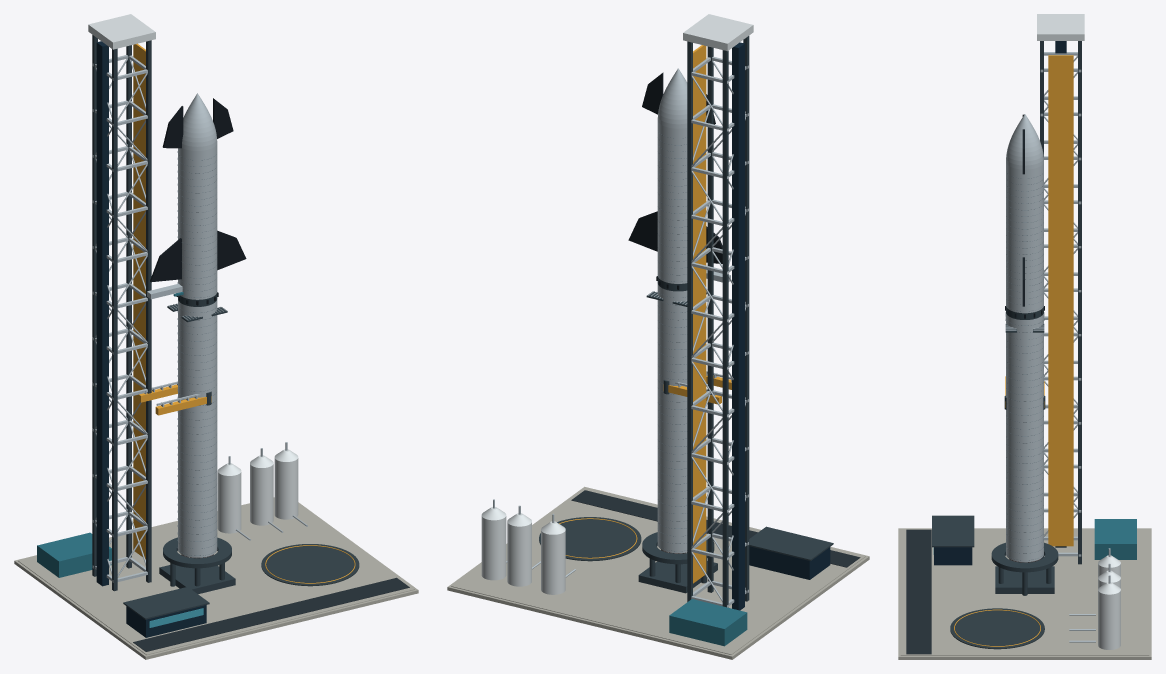
The model's file is starship-cad.glb.
3 views of the same model, side by side, from view 1: azimuth 30°, elevation 25°; view 2: azimuth 150°, elevation 25°; view 3: azimuth 270°, elevation 25° (orthographic). The views are drawn at different scales.
Parts seen in each view (by area): view 1: STATIC_Apron, BOOSTER_Hull, STATIC_Elevator, SHIP_Hull, STATIC_CatchRail, STATIC_ServiceRoad, STATIC_LandingPad, STATIC_TowerColumn_-24500_4000, STATIC_TowerColumn_-15500_4000, STATIC_TowerColumn_-24500_13000, STATIC_Foundation, STATIC_TowerColumn_-15500_13000 (+12 smaller); view 2: STATIC_Apron, BOOSTER_Hull, STATIC_Elevator, STATIC_CatchRail, SHIP_Hull, STATIC_TowerColumn_-24500_13000, STATIC_TowerColumn_-15500_13000, STATIC_TowerColumn_-15500_4000, STATIC_LandingPad, STATIC_Foundation, STATIC_TowerColumn_-24500_4000, STATIC_WaterReservoir (+10 smaller); view 3: STATIC_Apron, STATIC_CatchRail, BOOSTER_Hull, SHIP_Hull, STATIC_ServiceRoad, STATIC_LandingPad, STATIC_TowerColumn_-15500_13000, STATIC_Foundation, STATIC_WaterReservoir, STATIC_ControlRoof, STATIC_TowerCrown, STATIC_Cryotank_30000 (+4 smaller).
Part boxes in pixels (<box>): STATIC_Apron: <box>18,498,414,655</box>; BOOSTER_Hull: <box>178,299,217,557</box>; STATIC_Elevator: <box>96,41,108,586</box>; SHIP_Hull: <box>178,143,217,299</box>; STATIC_CatchRail: <box>133,43,145,559</box>; STATIC_ServiceRoad: <box>133,577,409,651</box>; STATIC_LandingPad: <box>261,544,359,586</box>; STATIC_TowerColumn_-24500_4000: <box>112,48,117,591</box>; STATIC_TowerColumn_-15500_4000: <box>146,40,151,582</box>; STATIC_TowerColumn_-24500_13000: <box>92,35,97,576</box>; STATIC_Foundation: <box>14,497,418,659</box>; STATIC_TowerColumn_-15500_13000: <box>126,45,131,568</box>; STATIC_Apron: <box>451,487,865,654</box>; BOOSTER_Hull: <box>657,284,687,553</box>; STATIC_Elevator: <box>732,42,744,610</box>; STATIC_CatchRail: <box>693,45,706,583</box>; SHIP_Hull: <box>657,121,687,283</box>; STATIC_TowerColumn_-24500_13000: <box>722,50,728,607</box>; STATIC_TowerColumn_-15500_13000: <box>687,41,692,601</box>; STATIC_TowerColumn_-15500_4000: <box>707,46,713,592</box>; STATIC_LandingPad: <box>539,517,641,561</box>; STATIC_Foundation: <box>447,486,869,659</box>; STATIC_TowerColumn_-24500_4000: <box>743,36,749,601</box>; STATIC_WaterReservoir: <box>669,599,747,646</box>; STATIC_Apron: <box>900,529,1149,655</box>; STATIC_CatchRail: <box>1048,55,1073,546</box>; BOOSTER_Hull: <box>1006,313,1043,562</box>; SHIP_Hull: <box>1006,163,1043,313</box>; STATIC_ServiceRoad: <box>906,529,931,654</box>; STATIC_LandingPad: <box>950,608,1044,649</box>; STATIC_TowerColumn_-15500_13000: <box>1078,41,1081,564</box>; STATIC_Foundation: <box>898,528,1151,659</box>; STATIC_WaterReservoir: <box>1094,519,1136,559</box>; STATIC_ControlRoof: <box>932,515,974,547</box>; STATIC_TowerCrown: <box>1037,14,1084,40</box>; STATIC_Cryotank_30000: <box>1098,590,1120,649</box>.
Bounding box in the file's own units: 72 × 140 × 60.
